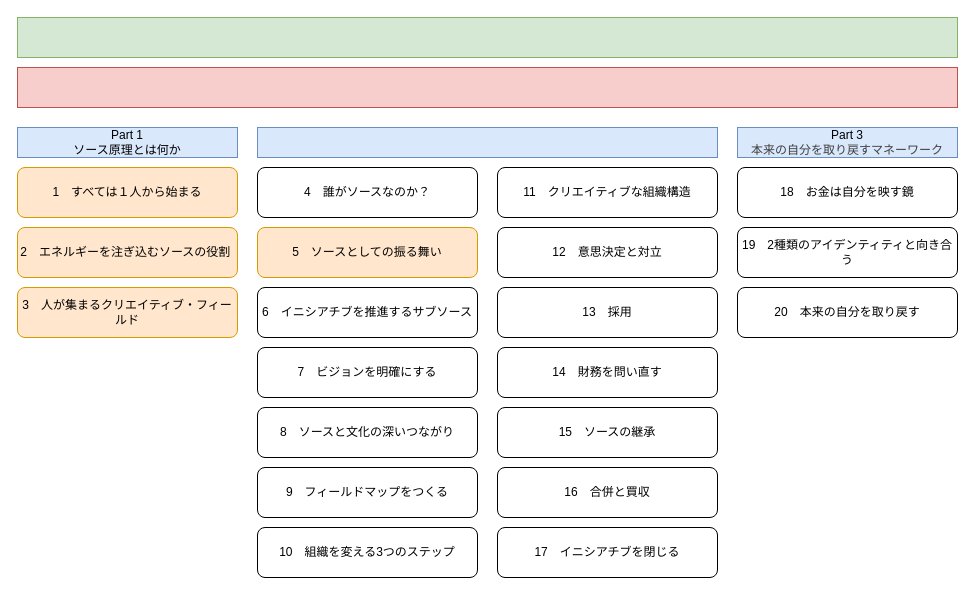
This 975x595 diagram has some shape labels left out. The centre of each missing label's shape, as x and y in pixels:
Part 2 ソース原理を日々の実践に活かす: point 487,142
「新しいアイデアや変化を世界にもたらす」: point 487,87
すべては1人から始まる 目次の整理: point 487,37
